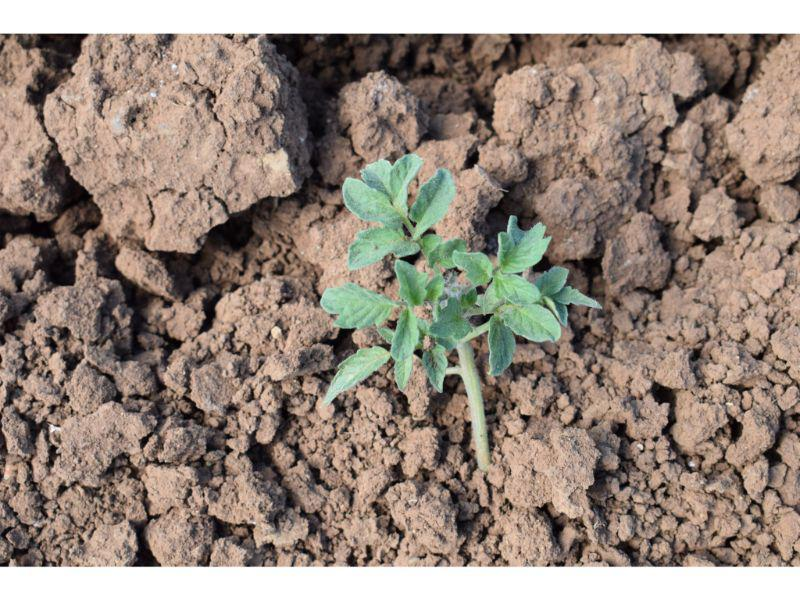tomato: (323, 152, 603, 405)
